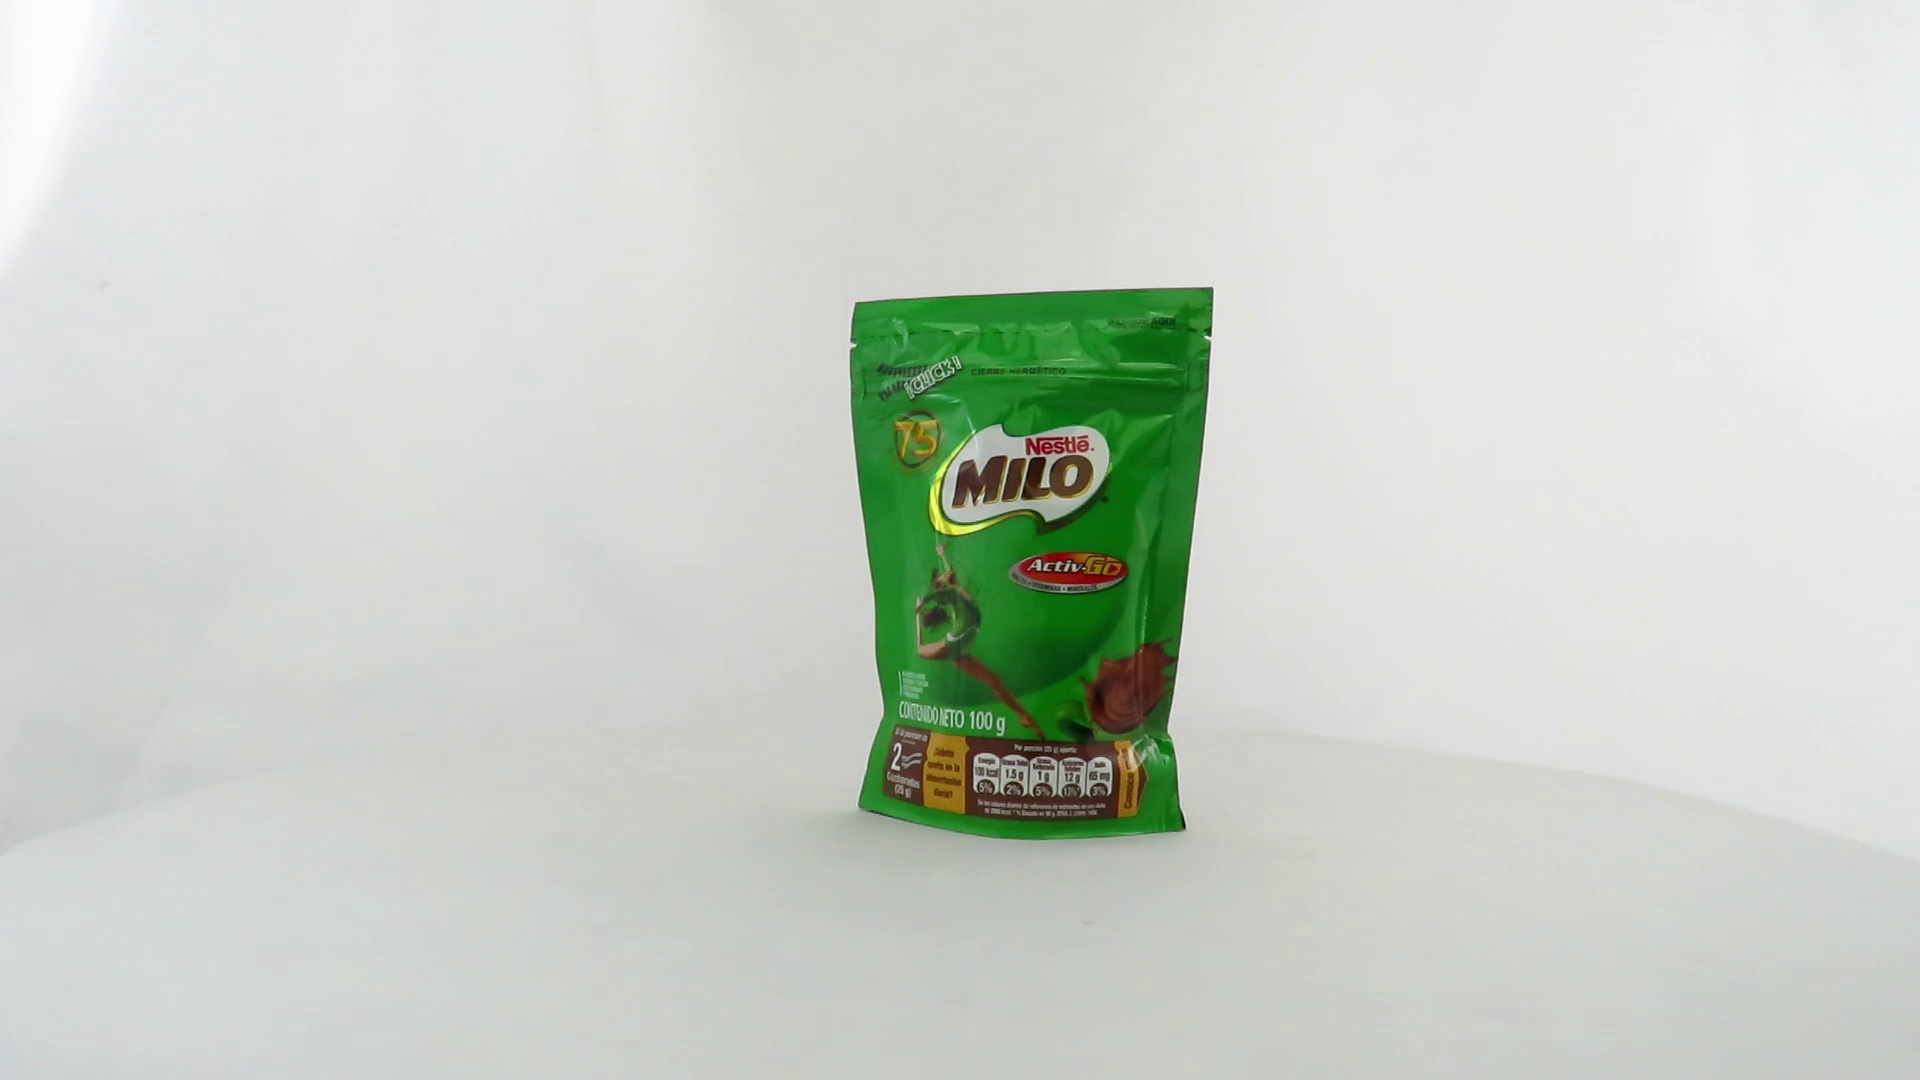COL0170203DYP10000: (844, 282, 1220, 847)
